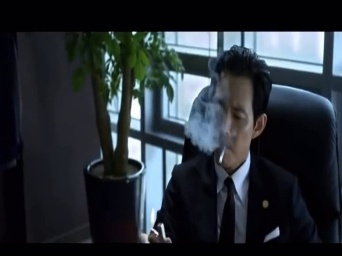smoke: (218, 145, 225, 165)
